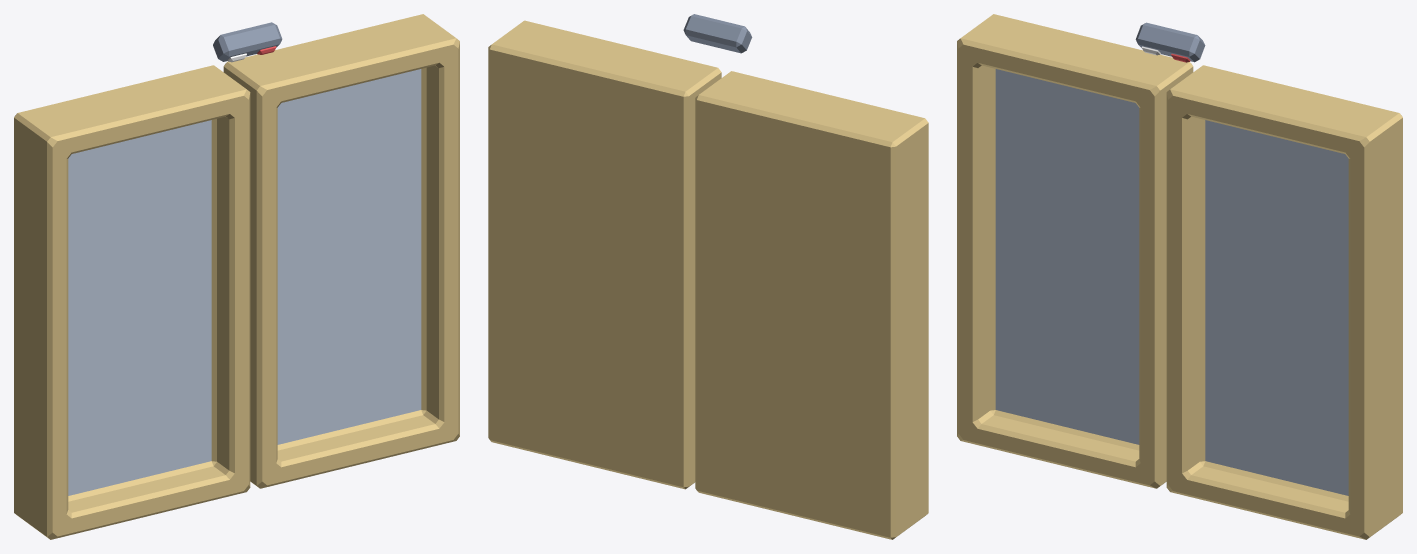
File: market_door.fbx
The picture shows the model from 3 angles, left to right: view 1: azimuth 30°, elevation 25°; view 2: azimuth 150°, elevation 25°; view 3: azimuth 330°, elevation 25°; orthographic projection.
Visible parts, largest first — view 1: door2, door1, sensor; view 2: door2, door1, sensor; view 3: door1, door2, sensor.
Boxes of the visible parts, x1,y1,x2,y2 form: door2: (14,65,250,539); door1: (223,14,459,488); sensor: (213,22,282,62); door2: (695,71,928,539); door1: (488,20,721,489); sensor: (683,14,752,53); door1: (1166,65,1402,539); door2: (957,14,1193,488); sensor: (1135,22,1205,62).
Bounding box in the file's own units: 215 × 226 × 33.45.
